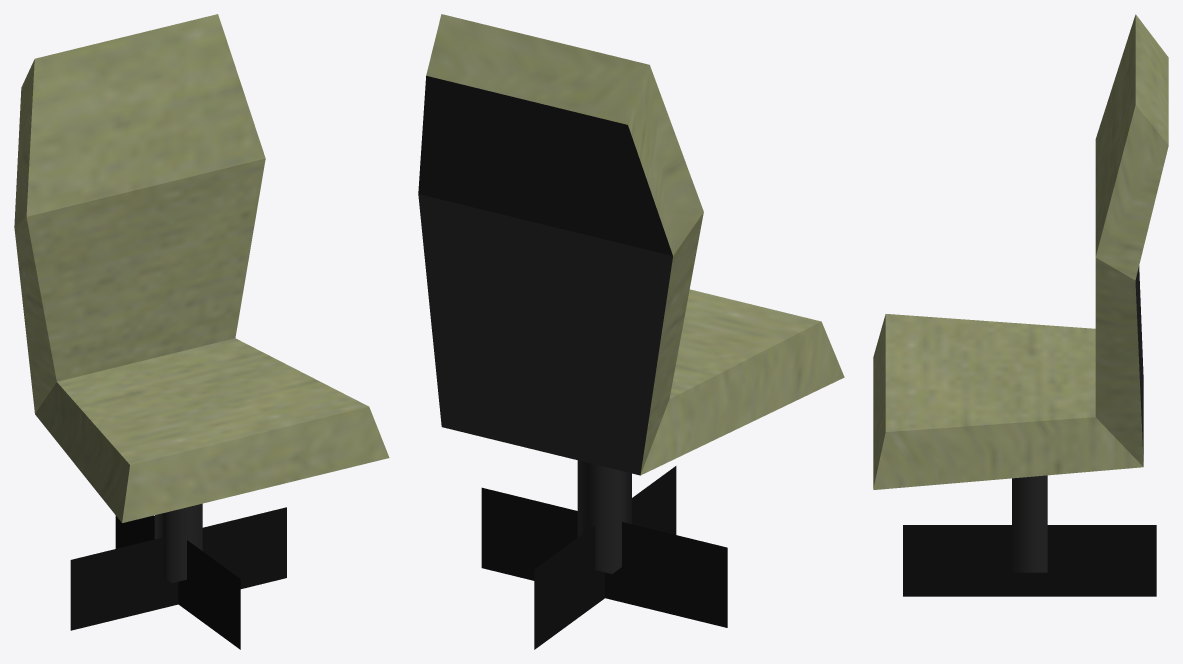
Rendered from Computer_chair_4.fbx.
3 renders of one model, left to right at view 1: azimuth 30°, elevation 25°; view 2: azimuth 150°, elevation 25°; view 3: azimuth 270°, elevation 25°, orthographic. The views are drawn at different scales.
Visible parts, largest first — view 1: Computerchair; view 2: Computerchair; view 3: Computerchair.
Part boxes in pixels (x1=…): Computerchair: x1=14, y1=14, x2=389, y2=649; Computerchair: x1=418, y1=14, x2=844, y2=649; Computerchair: x1=873, y1=14, x2=1168, y2=596.
Bounding box in the file's own units: 0.8071 × 1.53 × 0.7615.
